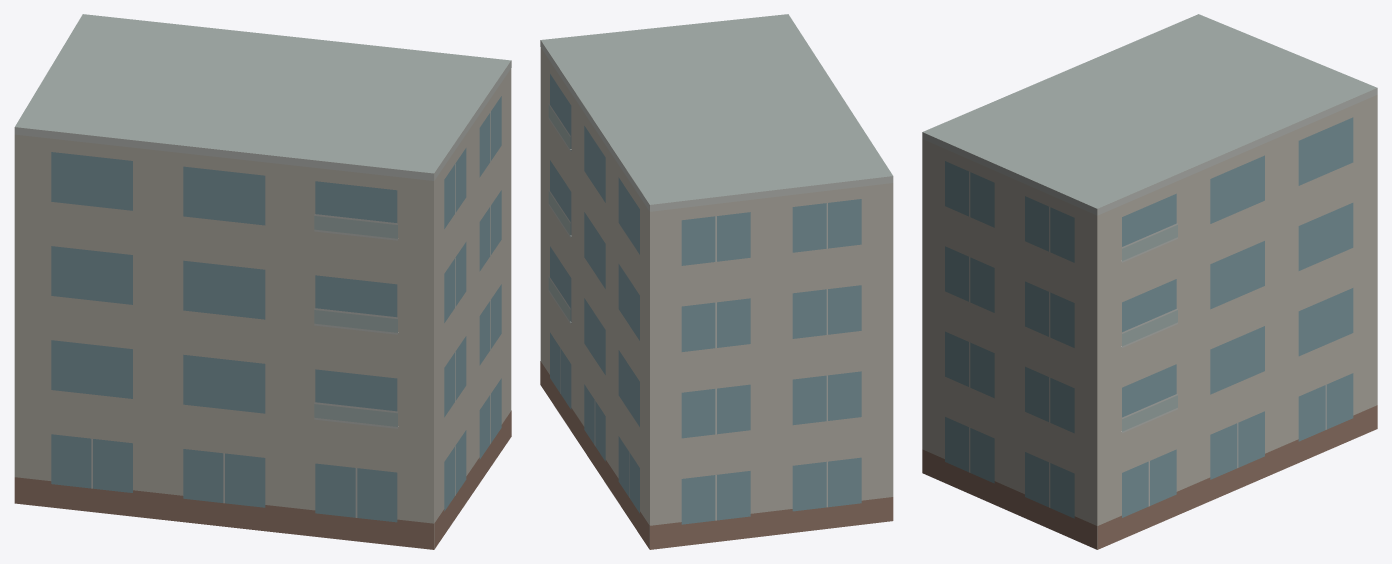
File: survey-upis-32499143.glb
3 views of the same model, side by side, from view 1: azimuth 30°, elevation 25°; view 2: azimuth 150°, elevation 25°; view 3: azimuth 270°, elevation 25° (orthographic). The views are drawn at different scales.
Parts seen in each view (by area): view 1: survey-upis-32499143.tmp; view 2: survey-upis-32499143.tmp; view 3: survey-upis-32499143.tmp.
Boxes of the visible parts, x1,y1,x2,y2 form: survey-upis-32499143.tmp: (14, 14, 511, 549); survey-upis-32499143.tmp: (540, 14, 893, 549); survey-upis-32499143.tmp: (922, 14, 1377, 549).
Size of the model in its own units: 14.96 by 12.2 by 14.77.
